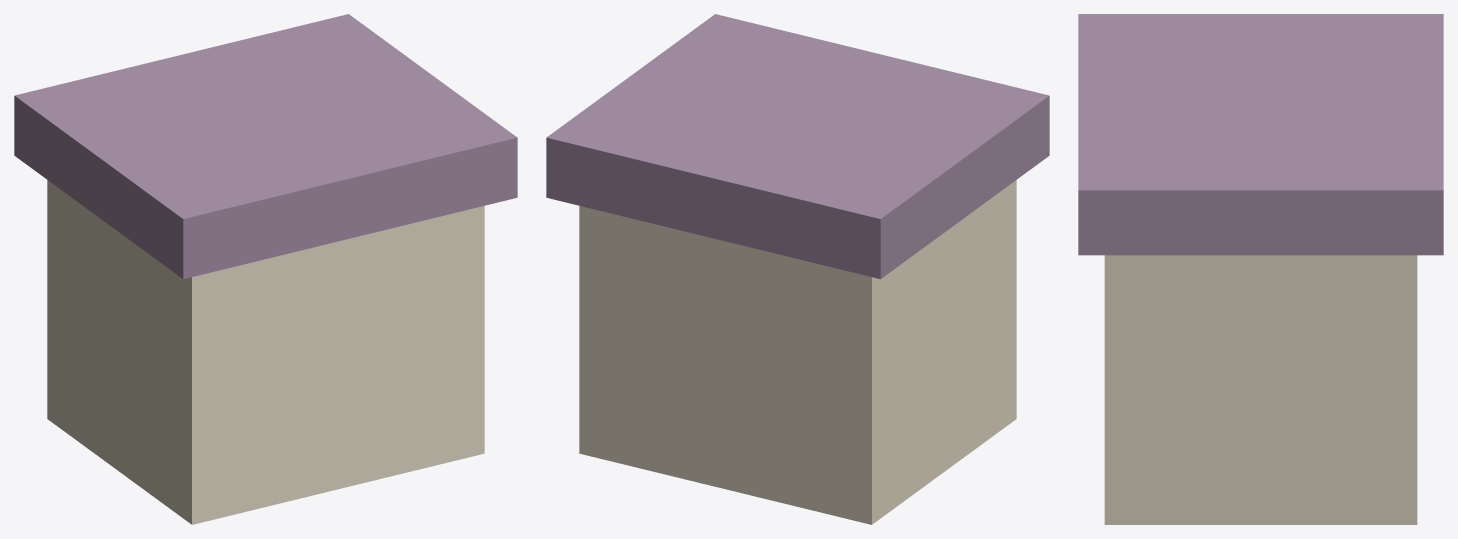
The model's file is house_c_lo2.glb.
3 renders of one model, left to right at view 1: azimuth 30°, elevation 25°; view 2: azimuth 150°, elevation 25°; view 3: azimuth 270°, elevation 25°, orthographic. The views are drawn at different scales.
Visible parts, largest first — view 1: house_c_lo2; view 2: house_c_lo2; view 3: house_c_lo2.
Part boxes in pixels (x1=…): house_c_lo2: x1=14, y1=14, x2=517, y2=524; house_c_lo2: x1=546, y1=14, x2=1049, y2=524; house_c_lo2: x1=1078, y1=14, x2=1443, y2=524.
Bounding box in the file's own units: 3.2 × 2.93 × 2.8.
